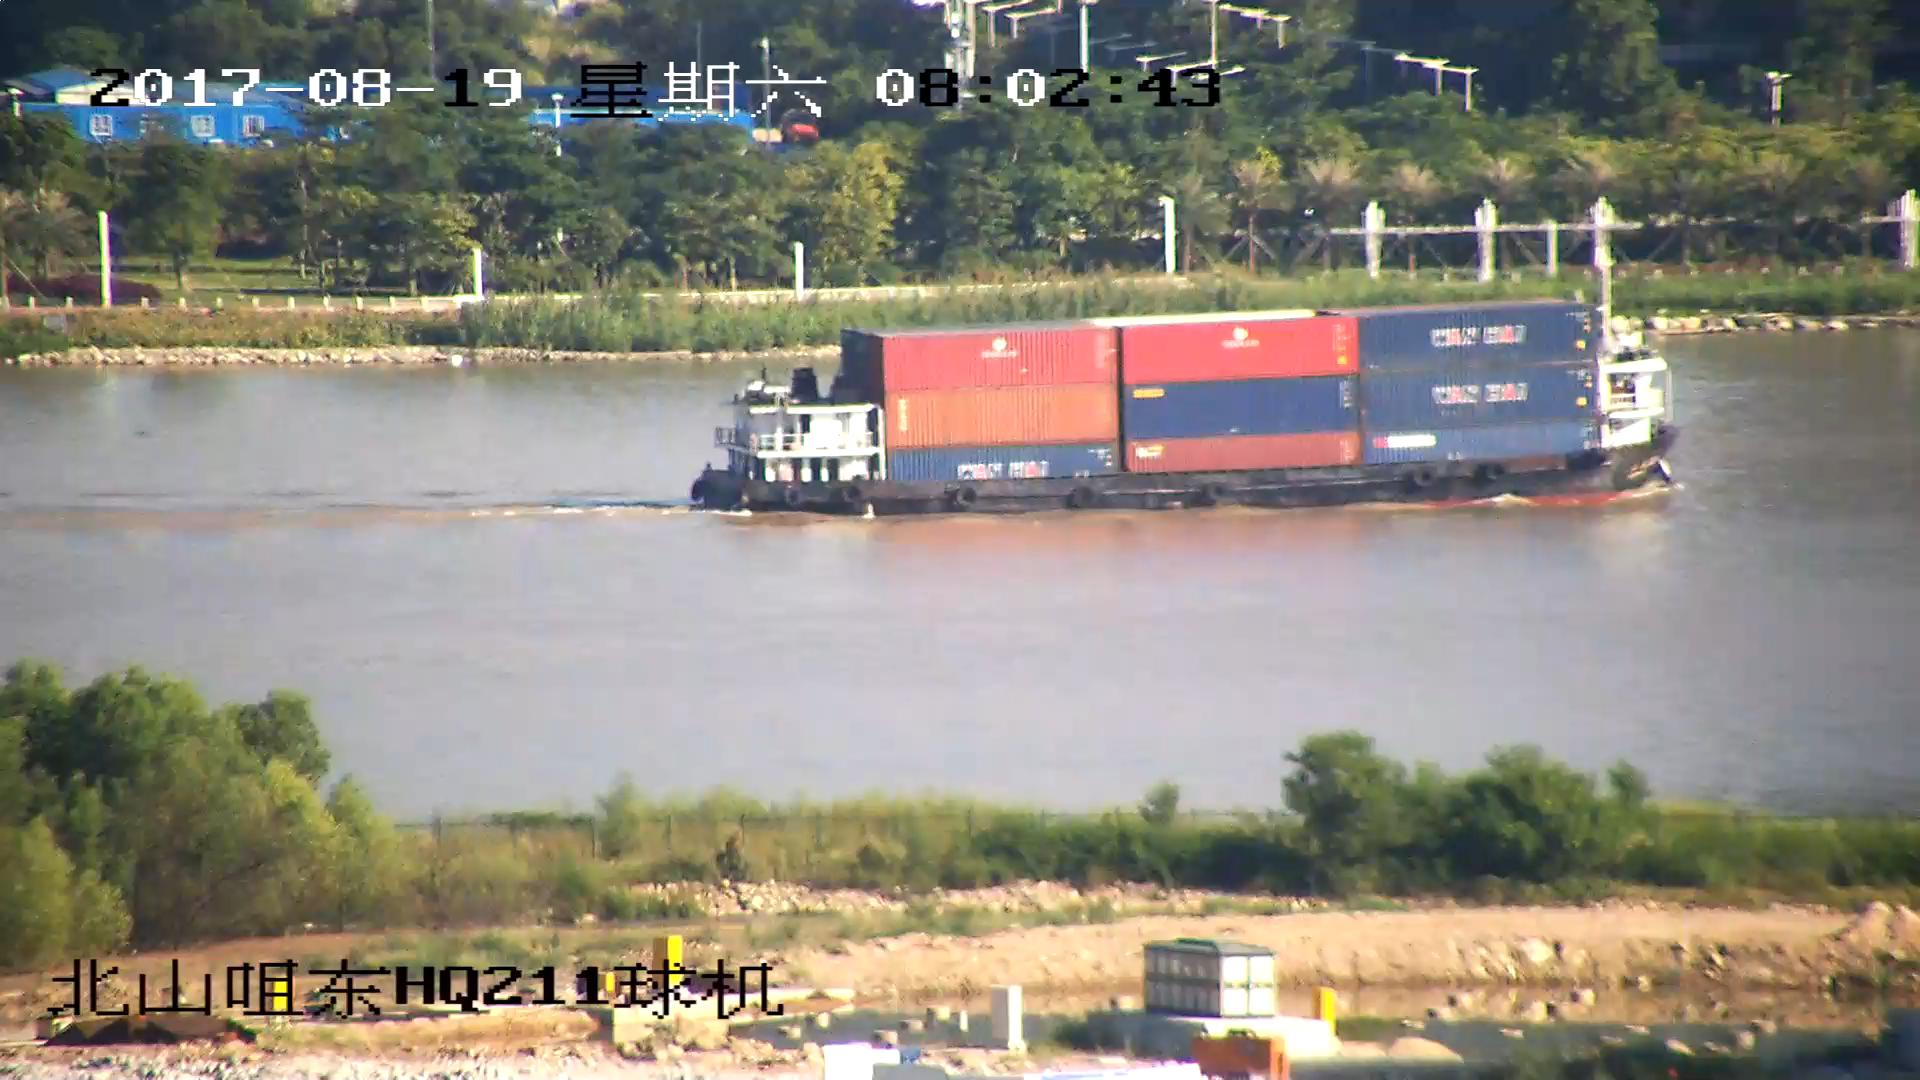container ship: (690, 260, 1691, 518)
